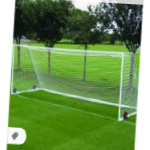goals: (12, 43, 137, 123)
